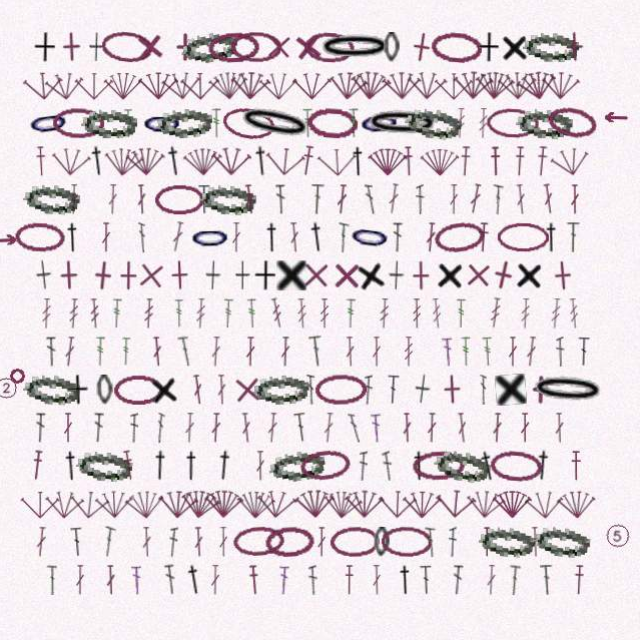chain: (236, 102, 315, 146), (530, 373, 606, 407), (365, 108, 440, 140), (180, 29, 240, 67), (318, 33, 393, 63), (268, 447, 327, 485), (433, 447, 492, 485), (545, 104, 600, 143), (221, 105, 277, 143), (404, 106, 463, 142), (156, 106, 214, 141), (533, 524, 591, 559), (76, 449, 134, 483), (433, 220, 487, 256), (478, 525, 536, 558), (101, 30, 155, 65), (299, 448, 353, 483), (24, 183, 81, 216), (24, 373, 81, 406), (253, 373, 310, 406), (489, 449, 543, 483), (516, 108, 573, 140), (200, 184, 257, 216), (430, 31, 483, 65), (306, 107, 359, 140), (523, 32, 579, 63), (233, 525, 285, 558), (486, 108, 539, 140), (412, 450, 465, 482), (265, 525, 316, 558), (82, 109, 138, 139), (208, 32, 260, 64), (304, 32, 356, 64), (15, 222, 67, 254), (231, 32, 283, 63), (53, 108, 105, 139), (315, 374, 367, 405), (381, 526, 433, 557), (330, 526, 381, 557), (27, 106, 72, 141), (348, 220, 393, 255), (497, 223, 549, 253), (114, 375, 165, 405), (155, 185, 205, 215), (358, 107, 402, 140), (142, 109, 184, 139), (190, 223, 232, 253), (97, 375, 114, 405), (384, 33, 400, 63), (374, 527, 390, 557)
double: (309, 336, 325, 367), (468, 184, 483, 215), (171, 222, 186, 253), (178, 336, 193, 367), (294, 412, 309, 443), (102, 526, 117, 557), (387, 184, 401, 215), (311, 185, 325, 215), (348, 413, 362, 443), (71, 527, 85, 557), (507, 565, 521, 595), (540, 565, 554, 595), (542, 184, 555, 215), (165, 564, 178, 595), (244, 185, 257, 215), (336, 185, 349, 215), (337, 223, 350, 253), (567, 223, 580, 253), (64, 337, 77, 367), (525, 337, 538, 367), (192, 375, 205, 405), (387, 375, 400, 405), (456, 413, 469, 443), (420, 565, 433, 595), (199, 185, 211, 215), (492, 185, 504, 215), (515, 185, 527, 215), (289, 223, 301, 253), (425, 223, 437, 253), (152, 337, 164, 367), (442, 337, 454, 367), (578, 337, 590, 367), (241, 413, 253, 443), (267, 413, 279, 443), (323, 413, 335, 443), (382, 451, 394, 481), (36, 527, 48, 557), (425, 527, 437, 557), (452, 565, 464, 595), (69, 185, 80, 215), (108, 185, 119, 215), (137, 185, 148, 215), (276, 185, 287, 215), (365, 185, 376, 215), (47, 337, 58, 367), (211, 337, 222, 367), (345, 337, 356, 367), (217, 375, 228, 405), (36, 413, 47, 443), (94, 413, 105, 443), (185, 413, 196, 443), (211, 413, 222, 443), (371, 413, 382, 443), (402, 413, 413, 443), (492, 413, 503, 443), (554, 413, 565, 443), (142, 527, 153, 557), (194, 527, 205, 557), (530, 527, 541, 557), (47, 565, 58, 595), (106, 565, 117, 595), (132, 565, 143, 595), (279, 565, 290, 595), (486, 565, 497, 595), (449, 185, 459, 215), (570, 185, 580, 215), (102, 223, 112, 253), (232, 223, 242, 253), (393, 223, 403, 253), (246, 337, 256, 367), (281, 337, 291, 367), (372, 337, 382, 367), (508, 337, 518, 367), (64, 413, 74, 443), (156, 413, 166, 443), (427, 413, 437, 443), (520, 413, 530, 443), (256, 451, 266, 481), (169, 527, 179, 557), (219, 527, 229, 557), (317, 527, 327, 557), (482, 527, 492, 557), (76, 565, 86, 595), (211, 565, 221, 595), (372, 565, 382, 595), (416, 185, 425, 215), (556, 337, 565, 367), (364, 375, 373, 405), (359, 451, 368, 481), (309, 565, 318, 595), (139, 223, 147, 253), (307, 375, 315, 405), (131, 413, 139, 443), (449, 527, 457, 557), (480, 375, 487, 405)
fan: (548, 143, 593, 180), (515, 68, 559, 104), (179, 486, 223, 522), (44, 69, 87, 103), (103, 145, 146, 179), (69, 487, 112, 521), (124, 487, 167, 521), (322, 487, 365, 521), (328, 69, 370, 103), (350, 69, 392, 103), (161, 69, 203, 102), (208, 69, 250, 102), (474, 69, 516, 102), (51, 145, 93, 178), (265, 145, 307, 178), (256, 487, 298, 520), (435, 487, 477, 520), (465, 487, 507, 520), (23, 70, 65, 102), (158, 488, 200, 520), (231, 70, 272, 102), (317, 146, 358, 178), (45, 488, 86, 520), (236, 488, 277, 520), (524, 488, 565, 520), (556, 488, 597, 520), (407, 70, 448, 101), (453, 70, 494, 101), (497, 70, 538, 101), (126, 146, 167, 177), (183, 146, 224, 177), (204, 488, 245, 519), (295, 488, 336, 519), (382, 70, 422, 101), (541, 70, 581, 101), (212, 146, 252, 177), (95, 488, 135, 519), (345, 488, 385, 519), (378, 488, 418, 519), (75, 71, 115, 101), (104, 71, 144, 101), (139, 71, 179, 101), (181, 71, 221, 101), (259, 71, 299, 101), (434, 71, 474, 101), (368, 147, 408, 177), (420, 147, 460, 177), (21, 489, 61, 519), (293, 71, 332, 101), (403, 489, 442, 519), (493, 489, 532, 519)
half_double: (477, 450, 499, 482), (165, 146, 185, 177), (215, 450, 235, 481), (533, 450, 553, 481), (185, 564, 205, 595), (89, 146, 108, 177), (308, 222, 327, 253), (253, 146, 271, 177), (152, 450, 170, 481), (63, 451, 81, 481), (183, 451, 201, 481), (350, 147, 367, 177), (65, 223, 82, 253), (264, 223, 281, 253), (543, 223, 560, 253), (411, 451, 428, 481), (397, 565, 414, 595), (300, 146, 316, 177), (122, 450, 137, 481), (31, 450, 45, 481), (535, 147, 549, 177), (459, 147, 472, 177), (477, 223, 490, 253), (248, 565, 261, 595), (36, 147, 48, 177), (403, 147, 415, 177), (514, 147, 526, 177), (570, 451, 582, 481), (573, 565, 585, 595), (490, 147, 501, 177), (344, 565, 355, 595)
noise: (604, 522, 631, 549), (0, 376, 19, 400), (9, 367, 27, 385), (602, 113, 628, 123), (0, 235, 19, 246)
single: (486, 258, 521, 293), (405, 31, 439, 65), (355, 259, 388, 293), (134, 31, 167, 64), (292, 31, 325, 64), (88, 260, 120, 292), (136, 260, 168, 292), (547, 260, 579, 292), (232, 374, 264, 406), (495, 374, 527, 406), (57, 32, 88, 63), (264, 32, 295, 63), (559, 32, 590, 63), (54, 260, 85, 291), (165, 260, 196, 291), (301, 260, 332, 291), (463, 260, 494, 291), (437, 374, 468, 405), (150, 374, 180, 406), (171, 33, 201, 63), (114, 261, 144, 291), (277, 261, 307, 291), (332, 261, 362, 291), (406, 261, 436, 291), (526, 375, 556, 405), (436, 260, 465, 291), (515, 260, 544, 291), (501, 33, 529, 63), (66, 375, 90, 405), (34, 33, 57, 63), (477, 33, 500, 63), (254, 261, 277, 291), (36, 260, 54, 291), (414, 374, 432, 405), (206, 261, 222, 291), (389, 261, 405, 291), (90, 33, 105, 63), (236, 261, 251, 291)
treble: (270, 298, 285, 329), (489, 298, 502, 329), (223, 299, 235, 329), (431, 299, 443, 329), (550, 299, 562, 329), (568, 299, 580, 329), (482, 337, 494, 367), (124, 109, 135, 139), (303, 109, 314, 139), (455, 109, 466, 139), (478, 109, 489, 139), (42, 299, 53, 329), (69, 299, 80, 329), (90, 299, 101, 329), (112, 299, 123, 329), (144, 299, 155, 329), (196, 299, 207, 329), (247, 299, 258, 329), (297, 299, 308, 329), (379, 299, 390, 329), (456, 299, 467, 329), (520, 299, 531, 329), (212, 109, 222, 139), (349, 109, 359, 139), (175, 299, 185, 329), (320, 299, 330, 329), (346, 299, 356, 329), (412, 299, 422, 329), (96, 337, 106, 367), (122, 337, 132, 367), (404, 337, 414, 367), (461, 337, 471, 367)
